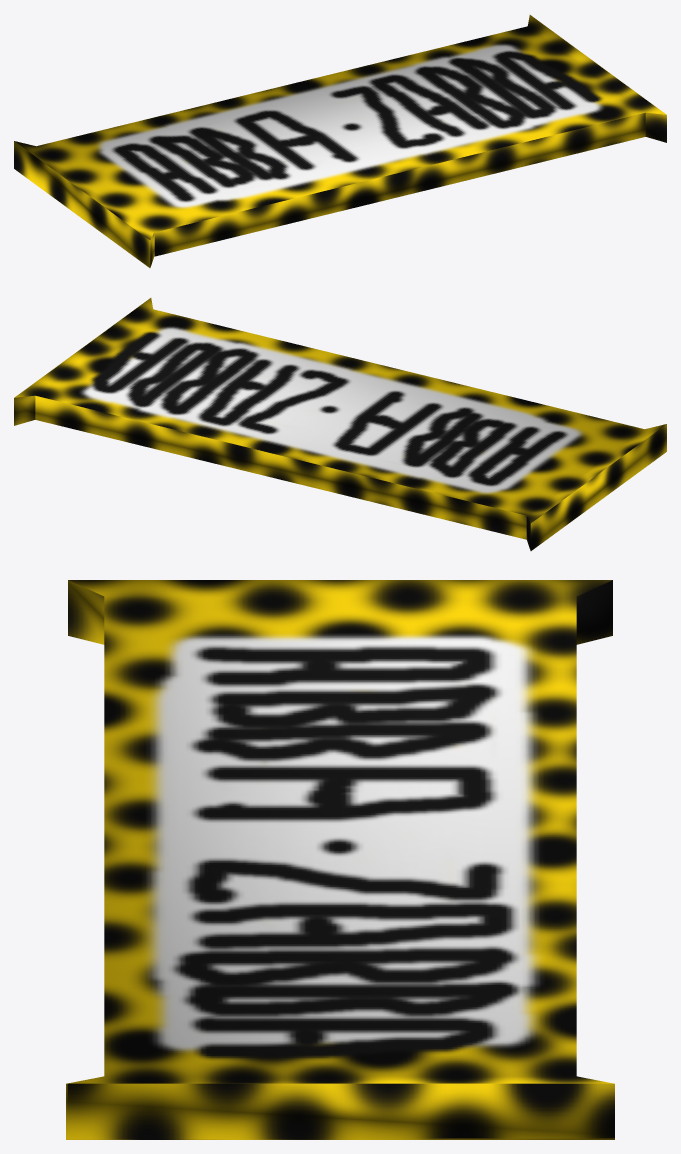
The model's file is PFRfoodAbbazabba.fbx.
3 renders of one model, top to bottom at view 1: azimuth 30°, elevation 25°; view 2: azimuth 150°, elevation 25°; view 3: azimuth 270°, elevation 25°, orthographic. The views are drawn at different scales.
Visible parts, largest first — view 1: Cube; view 2: Cube; view 3: Cube.
Part boxes in pixels (x1,y1,x2,y2): Cube: (14,15,666,267); Cube: (14,298,666,550); Cube: (66,580,614,1139).
Bounding box in the file's own units: 5.05 × 0.2626 × 2.33.
1 material, 1 textured.
